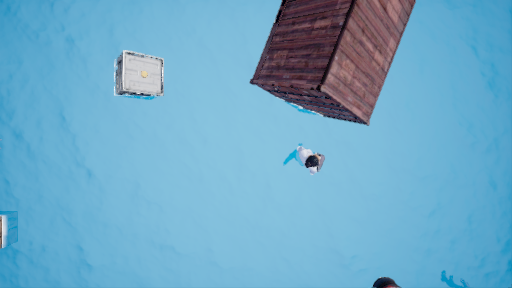person: (280, 142, 322, 180)
